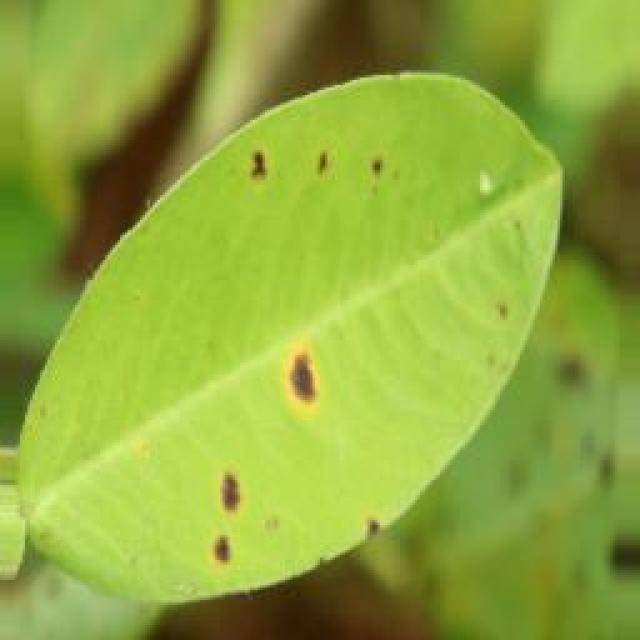Sigatoka: (227, 126, 392, 196), (196, 471, 278, 563), (249, 330, 335, 409), (339, 493, 412, 541)
